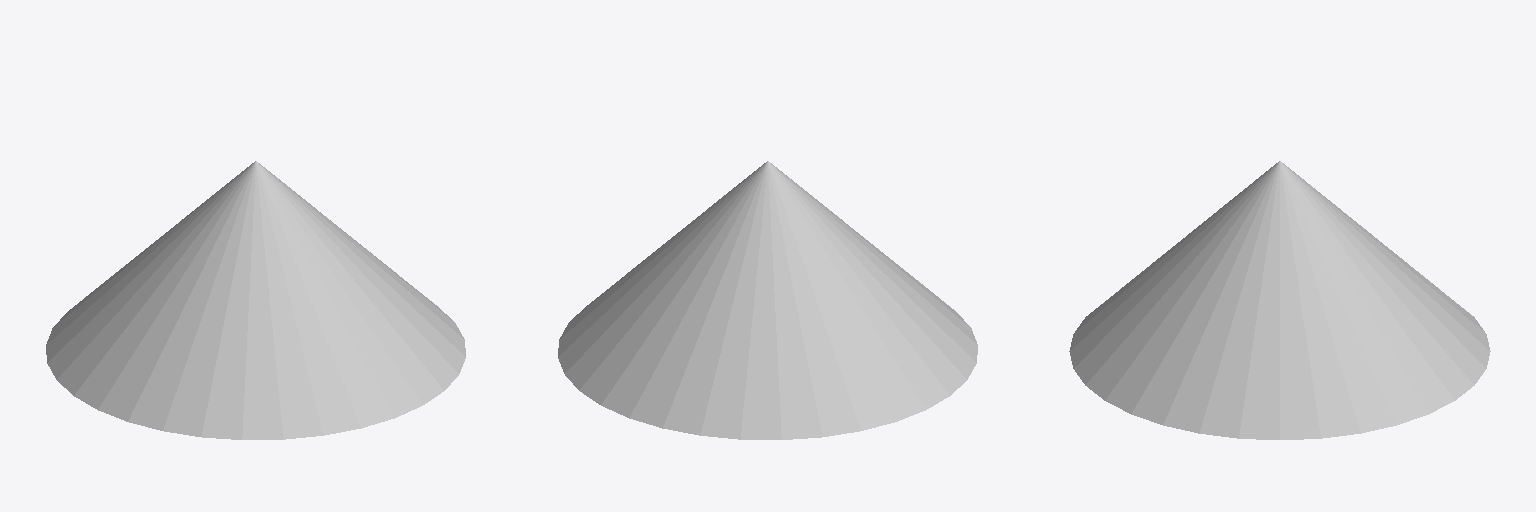
The model's file is spotlight2222.obj.
3 views of the same model, side by side, from view 1: azimuth 30°, elevation 25°; view 2: azimuth 150°, elevation 25°; view 3: azimuth 270°, elevation 25° (orthographic).
Parts seen in each view (by area): view 1: Cone; view 2: Cone; view 3: Cone.
Boxes of the visible parts, box(x1,y1,x2,y2) form: Cone: box(46, 161, 465, 439); Cone: box(558, 161, 977, 439); Cone: box(1069, 161, 1490, 439).
Bounding box in the file's own units: 1 × 0.5 × 1.